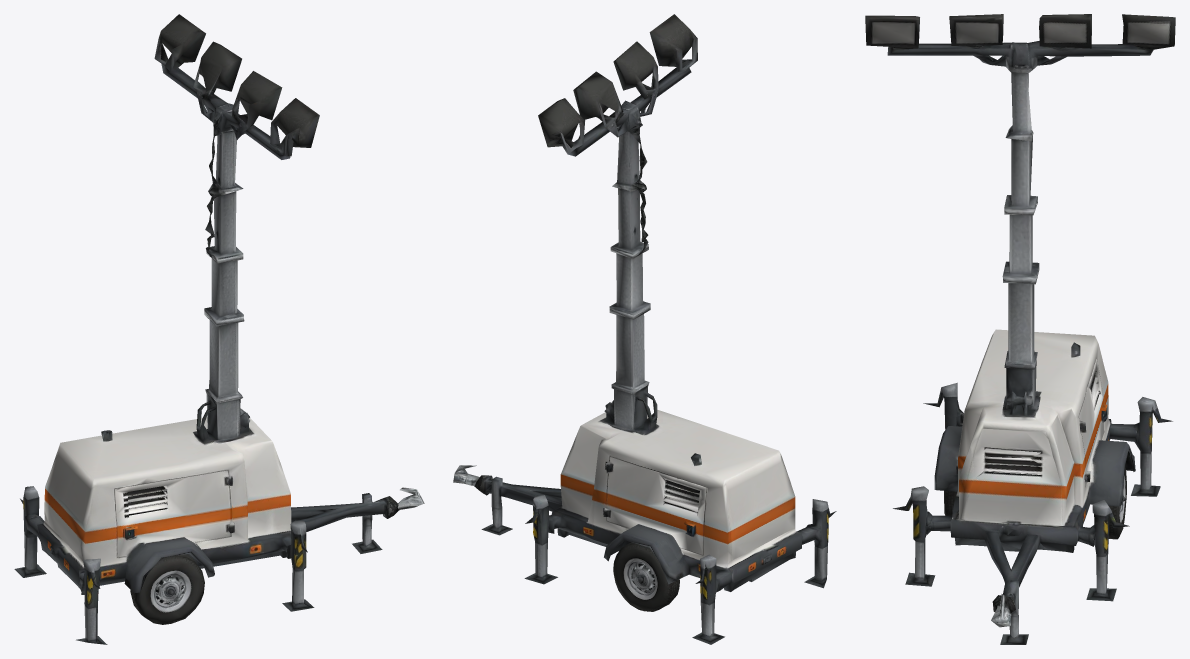
Rendered from teluk-light-tower.glb.
The picture shows the model from 3 angles, left to right: view 1: azimuth 30°, elevation 25°; view 2: azimuth 150°, elevation 25°; view 3: azimuth 270°, elevation 25°; orthographic projection. The views are drawn at different scales.
Parts seen in each view (by area): view 1: teluk-light-tower; view 2: teluk-light-tower; view 3: teluk-light-tower.
Boxes of the visible parts, x1,y1,x2,y2 form: teluk-light-tower: [14, 14, 424, 644]; teluk-light-tower: [453, 14, 836, 644]; teluk-light-tower: [865, 14, 1175, 644].
Bounding box in the file's own units: 6.73 × 8.99 × 4.49.
1 material, 1 textured.
